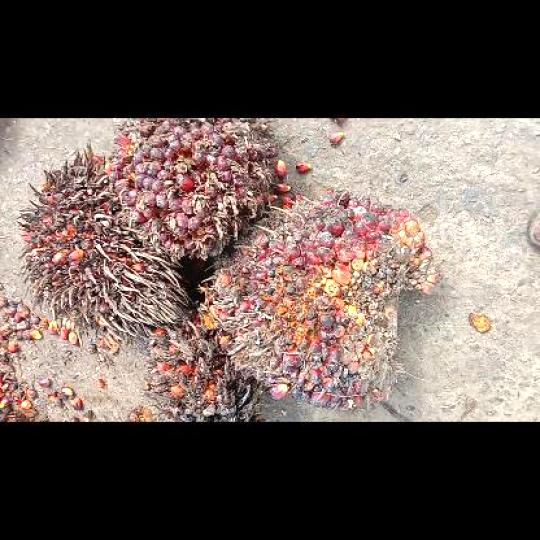masak: (198, 191, 435, 406), (108, 118, 276, 261)
terlalu masak: (17, 146, 188, 350), (145, 314, 263, 421)
